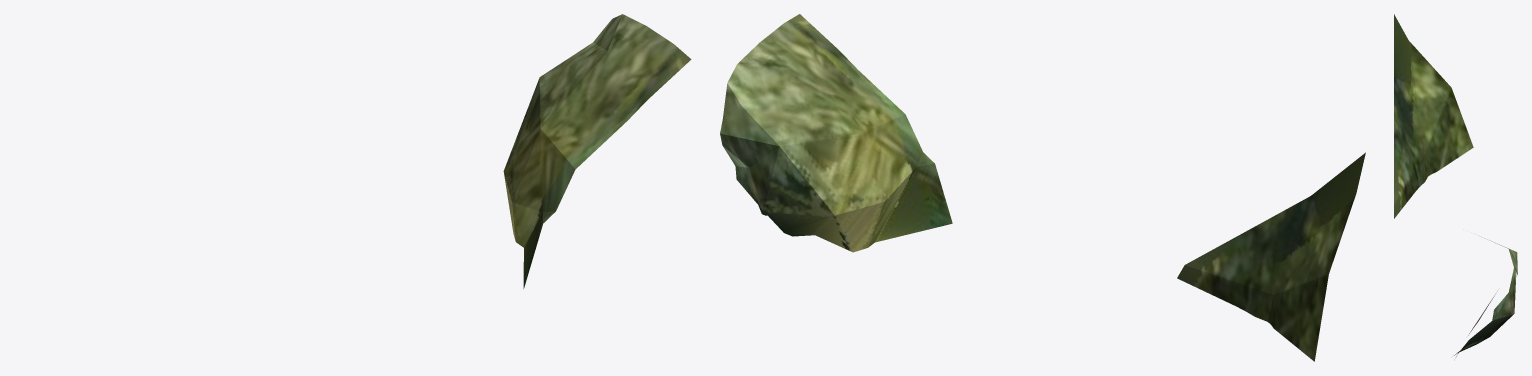
3 renders of one model, left to right at view 1: azimuth 30°, elevation 25°; view 2: azimuth 150°, elevation 25°; view 3: azimuth 270°, elevation 25°, orthographic. The views are drawn at different scales.
Bounding box in the file's own units: 2.95 × 0.8696 × 0.7199.
1 material, 1 textured.
